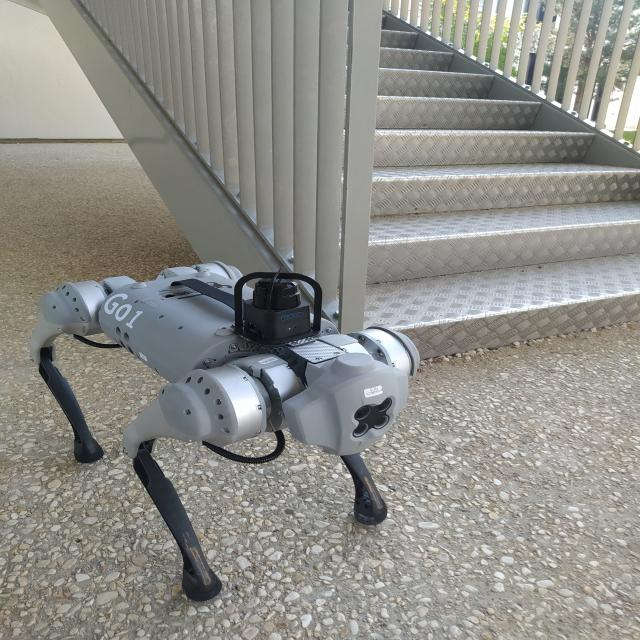unitree-go1-robot: (1, 257, 437, 612)
